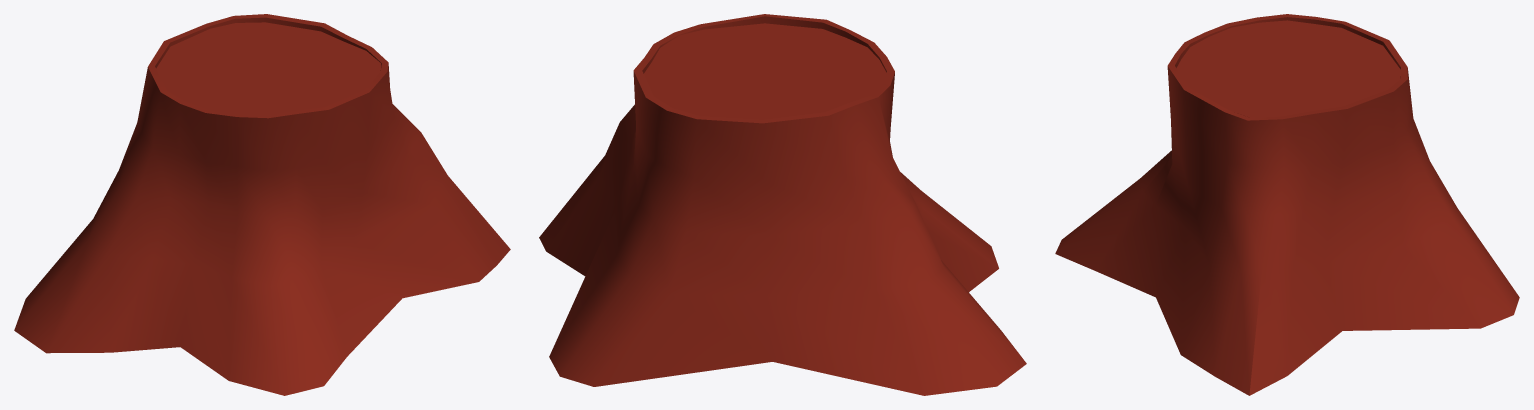
Rendered from SwampStumpMain.fbx.
3 renders of one model, left to right at view 1: azimuth 30°, elevation 25°; view 2: azimuth 150°, elevation 25°; view 3: azimuth 270°, elevation 25°, orthographic. The views are drawn at different scales.
Parts seen in each view (by area): view 1: Stump; view 2: Stump; view 3: Stump.
Part boxes in pixels (<box>): Stump: <box>14,14,510,395</box>; Stump: <box>539,14,1026,395</box>; Stump: <box>1055,14,1519,395</box>.
Bounding box in the file's own units: 4.46 × 3.95 × 2.09.
